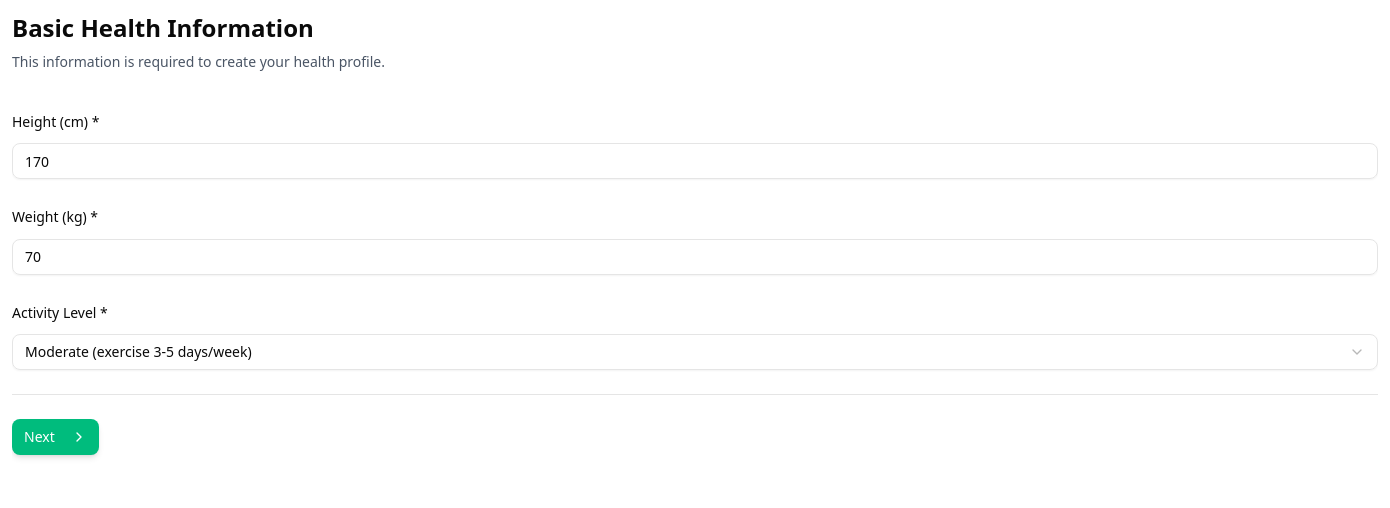
Test: Step1ProfileForm › validates minimum weight
The width and height of the screenshot is (1390, 508).
Step 1. Type "10" into the number field with placeholder "70" below "Weight (kg) *" → coordinates (695, 256), box [12, 238, 1378, 274]
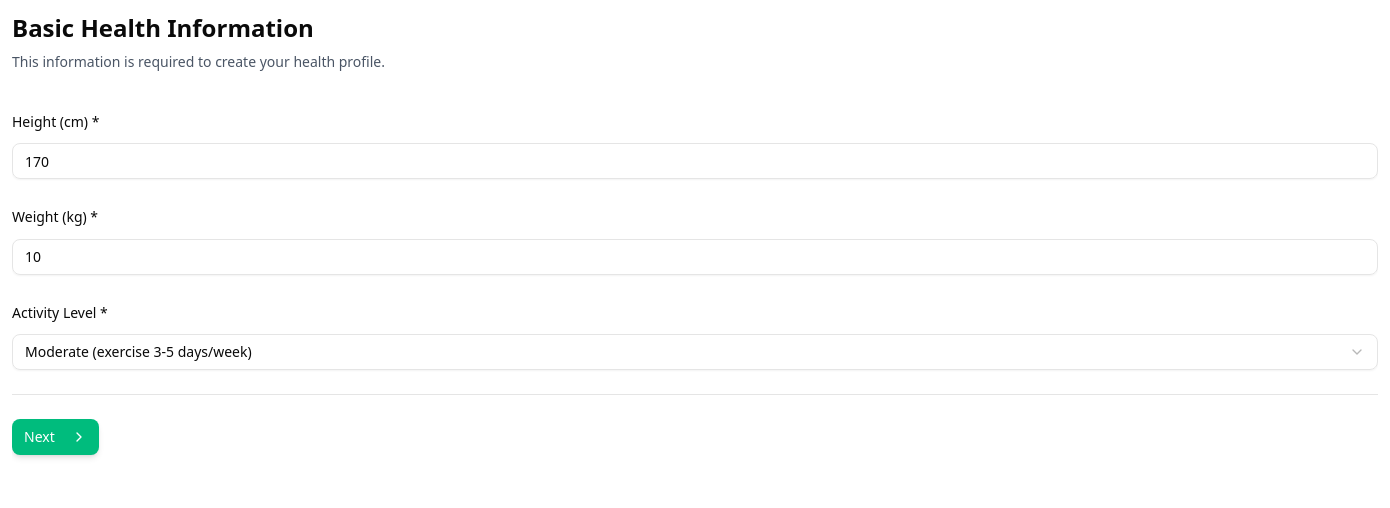
Step 2. Click the button "Next" → coordinates (55, 437), box [12, 419, 99, 455]
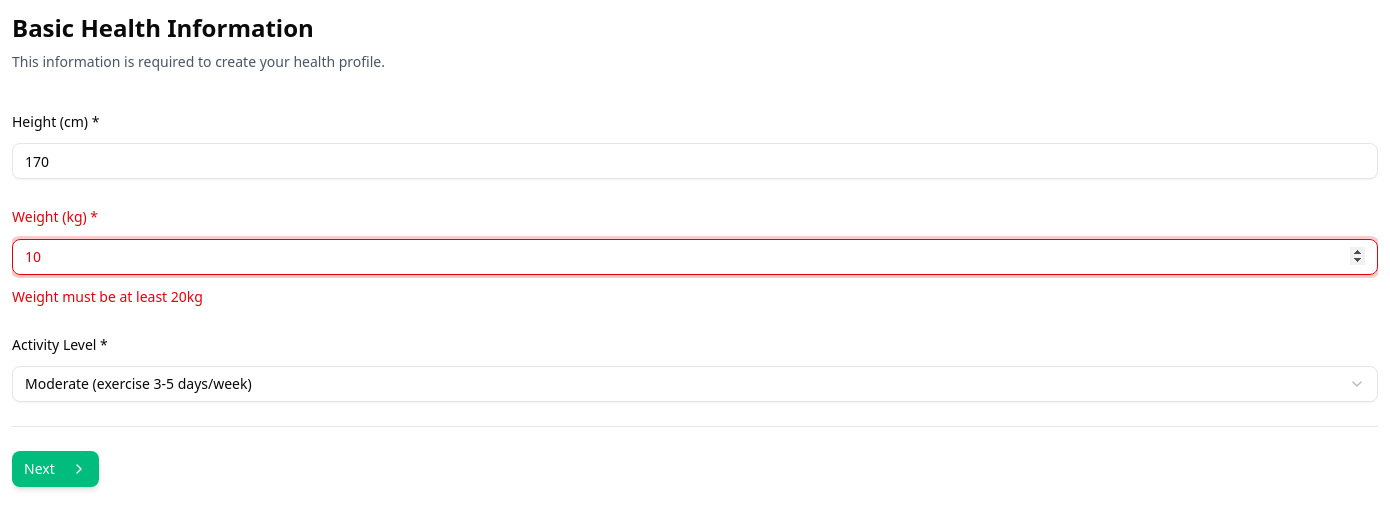
Now the text "Weight must be at least 20kg" is shown, box [12, 286, 203, 306]
